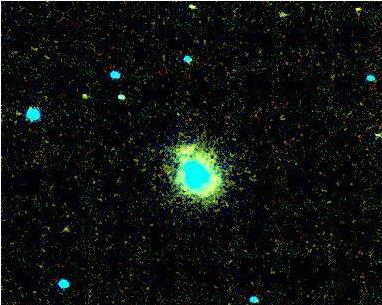star: (342, 0, 372, 24)
